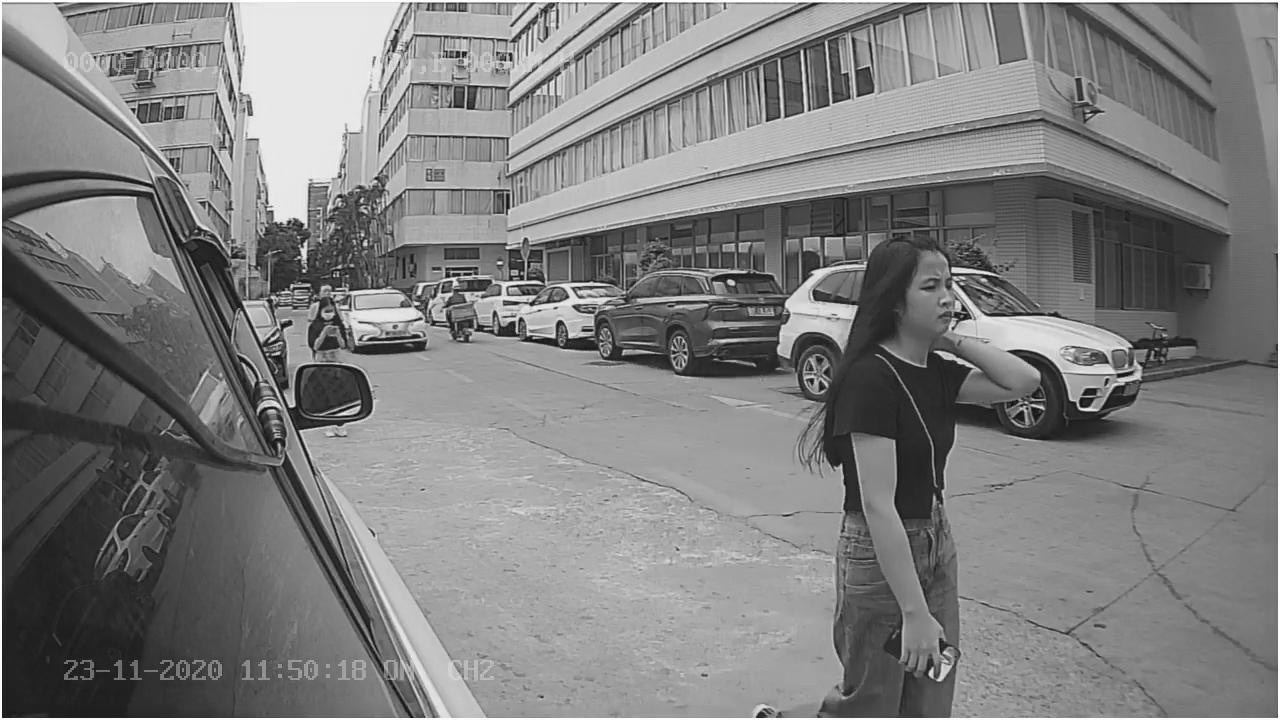person: (819, 221, 1042, 679)
